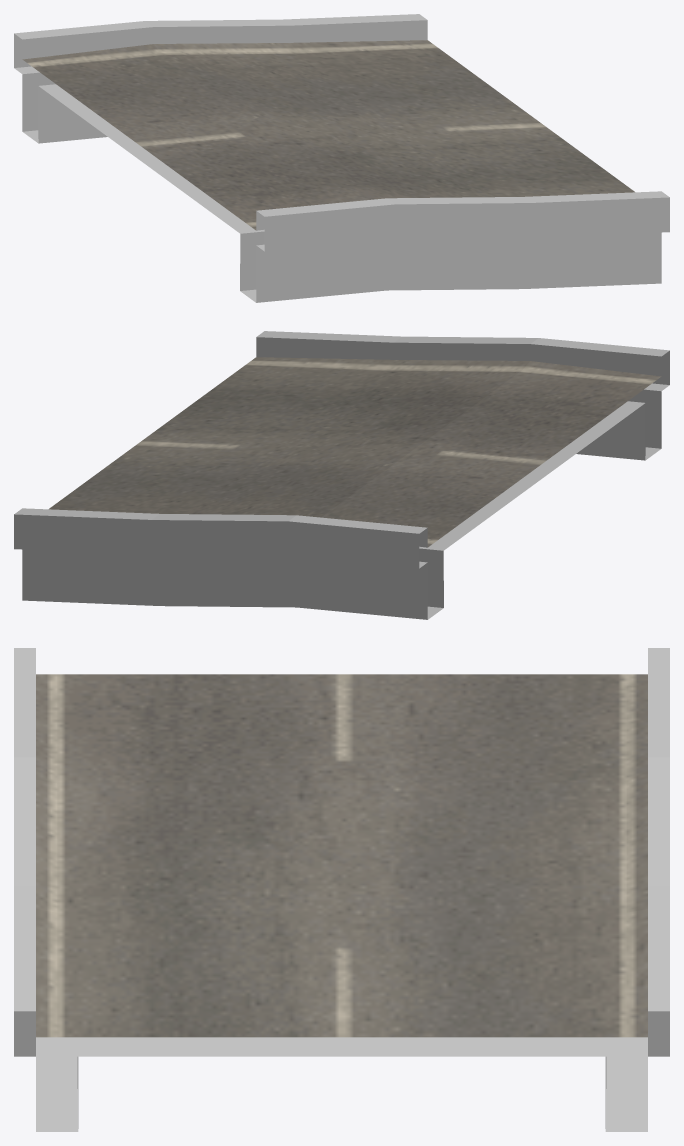
The model's file is Urban_Road4BridgeRampNoSides_Model.fbx.
3 renders of one model, top to bottom at view 1: azimuth 30°, elevation 25°; view 2: azimuth 150°, elevation 25°; view 3: azimuth 270°, elevation 25°, orthographic. The views are drawn at different scales.
Visible parts, largest first — view 1: Urban_Road4BridgeRampNoSides_Mesh; view 2: Urban_Road4BridgeRampNoSides_Mesh; view 3: Urban_Road4BridgeRampNoSides_Mesh.
Boxes of the visible parts, x1,y1,x2,y2 form: Urban_Road4BridgeRampNoSides_Mesh: [14, 14, 669, 302]; Urban_Road4BridgeRampNoSides_Mesh: [14, 331, 669, 619]; Urban_Road4BridgeRampNoSides_Mesh: [14, 648, 669, 1131].
Bounding box in the file's own units: 16 × 6.48 × 17.13.
